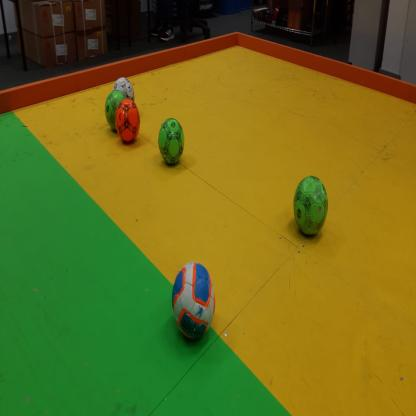ball: (172, 263, 216, 342), (294, 177, 328, 236), (159, 118, 184, 168), (116, 100, 139, 144), (106, 91, 118, 132), (115, 78, 135, 98)
